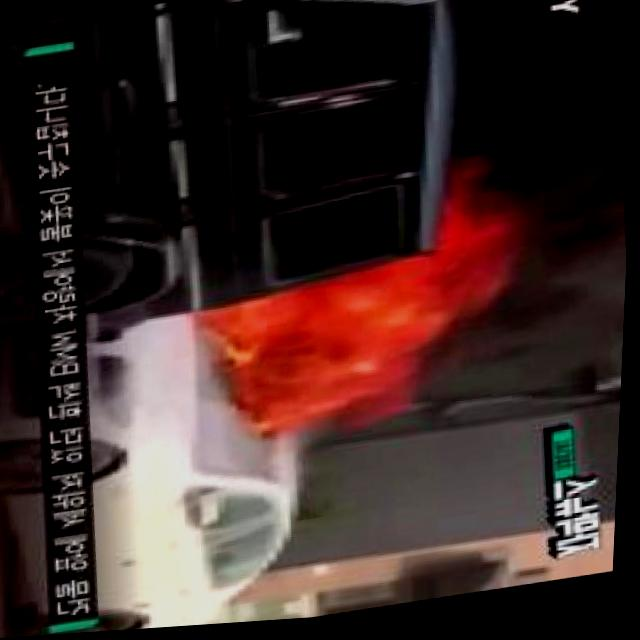Fire: (173, 152, 547, 474)
